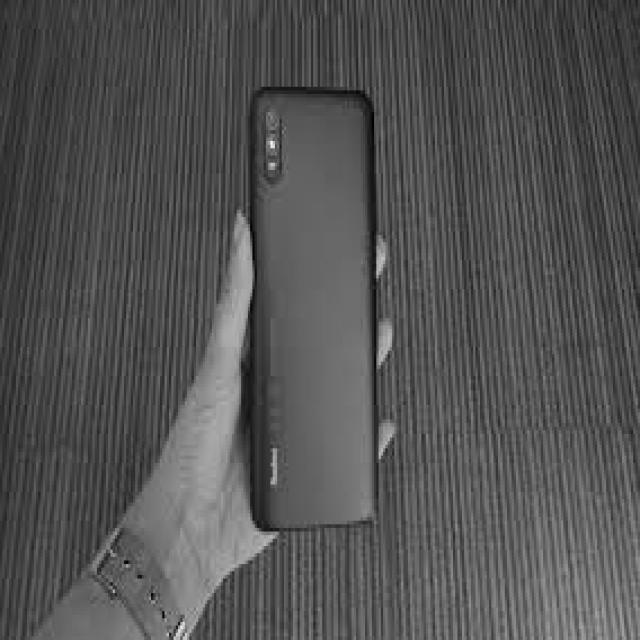No gun_phone: (251, 86, 379, 532)
